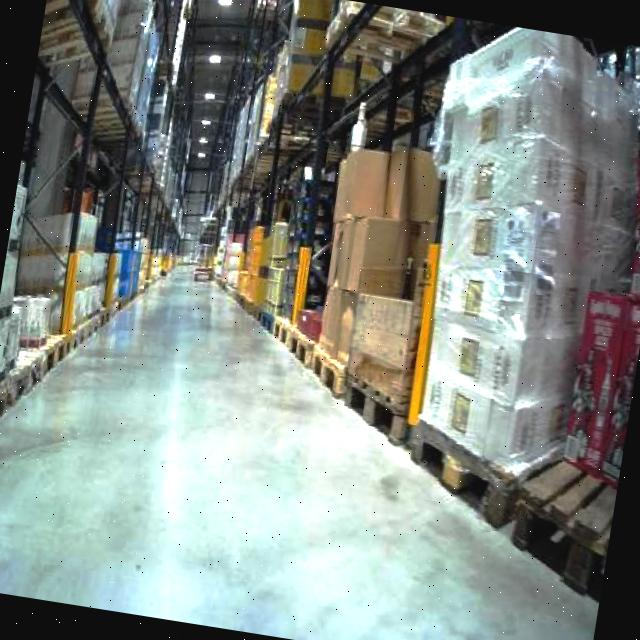ground: (0, 230, 640, 640)
pallet: (155, 0, 640, 640), (295, 135, 454, 446), (497, 450, 619, 614), (552, 279, 640, 496)
